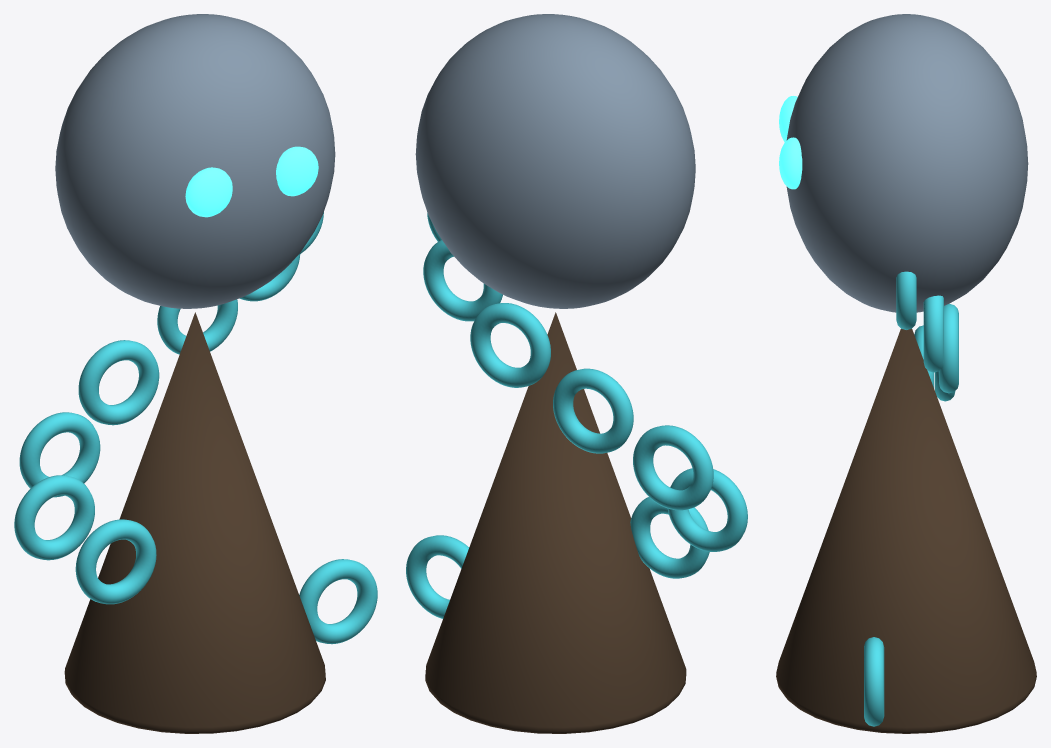
File: wraith_v3.glb
3 views of the same model, side by side, from view 1: azimuth 30°, elevation 25°; view 2: azimuth 150°, elevation 25°; view 3: azimuth 270°, elevation 25° (orthographic).
Parts seen in each view (by area): view 1: FLOATING_SKULL_PRIMARY, ECTOPLASM_TAIL_SECONDARY, SPECTRAL_CHAIN_ACCENT.006, SPECTRAL_CHAIN_ACCENT.005, SPECTRAL_CHAIN_ACCENT.003, SPECTRAL_CHAIN_ACCENT.008, SPECTRAL_CHAIN_ACCENT.004, SPECTRAL_CHAIN_ACCENT.002, EYE_EMISSIVE, EYE_EMISSIVE.001, SPECTRAL_CHAIN_ACCENT.001; view 2: FLOATING_SKULL_PRIMARY, ECTOPLASM_TAIL_SECONDARY, SPECTRAL_CHAIN_ACCENT.004, SPECTRAL_CHAIN_ACCENT.003, SPECTRAL_CHAIN_ACCENT.002, SPECTRAL_CHAIN_ACCENT.005, SPECTRAL_CHAIN_ACCENT.006, SPECTRAL_CHAIN_ACCENT.008, SPECTRAL_CHAIN_ACCENT.001; view 3: ECTOPLASM_TAIL_SECONDARY, FLOATING_SKULL_PRIMARY, SPECTRAL_CHAIN_ACCENT.008, SPECTRAL_CHAIN_ACCENT.001, SPECTRAL_CHAIN_ACCENT.002, SPECTRAL_CHAIN_ACCENT, EYE_EMISSIVE.001, EYE_EMISSIVE.
Part boxes in pixels (bbox=[...]): FLOATING_SKULL_PRIMARY: bbox=[55, 14, 335, 308]; ECTOPLASM_TAIL_SECONDARY: bbox=[64, 312, 325, 733]; SPECTRAL_CHAIN_ACCENT.006: bbox=[75, 519, 156, 604]; SPECTRAL_CHAIN_ACCENT.005: bbox=[14, 475, 94, 560]; SPECTRAL_CHAIN_ACCENT.003: bbox=[78, 340, 159, 425]; SPECTRAL_CHAIN_ACCENT.008: bbox=[299, 559, 377, 644]; SPECTRAL_CHAIN_ACCENT.004: bbox=[19, 412, 100, 497]; SPECTRAL_CHAIN_ACCENT.002: bbox=[157, 299, 237, 354]; EYE_EMISSIVE: bbox=[185, 167, 232, 217]; EYE_EMISSIVE.001: bbox=[276, 146, 318, 196]; SPECTRAL_CHAIN_ACCENT.001: bbox=[239, 254, 300, 301]; FLOATING_SKULL_PRIMARY: bbox=[415, 14, 695, 308]; ECTOPLASM_TAIL_SECONDARY: bbox=[425, 312, 686, 733]; SPECTRAL_CHAIN_ACCENT.004: bbox=[633, 425, 713, 510]; SPECTRAL_CHAIN_ACCENT.003: bbox=[553, 368, 633, 453]; SPECTRAL_CHAIN_ACCENT.002: bbox=[470, 303, 550, 387]; SPECTRAL_CHAIN_ACCENT.005: bbox=[667, 468, 747, 551]; SPECTRAL_CHAIN_ACCENT.006: bbox=[630, 497, 709, 578]; SPECTRAL_CHAIN_ACCENT.008: bbox=[406, 535, 469, 618]; SPECTRAL_CHAIN_ACCENT.001: bbox=[423, 240, 502, 321]; ECTOPLASM_TAIL_SECONDARY: bbox=[776, 329, 1036, 733]; FLOATING_SKULL_PRIMARY: bbox=[786, 14, 1028, 312]; SPECTRAL_CHAIN_ACCENT.008: bbox=[864, 637, 884, 726]; SPECTRAL_CHAIN_ACCENT.001: bbox=[923, 295, 943, 372]; SPECTRAL_CHAIN_ACCENT.002: bbox=[939, 303, 958, 393]; SPECTRAL_CHAIN_ACCENT: bbox=[896, 271, 916, 329]; EYE_EMISSIVE.001: bbox=[779, 137, 802, 189]; EYE_EMISSIVE: bbox=[779, 96, 797, 142].
Size of the model in its own units: 1.39 by 2.49 by 0.8996.
